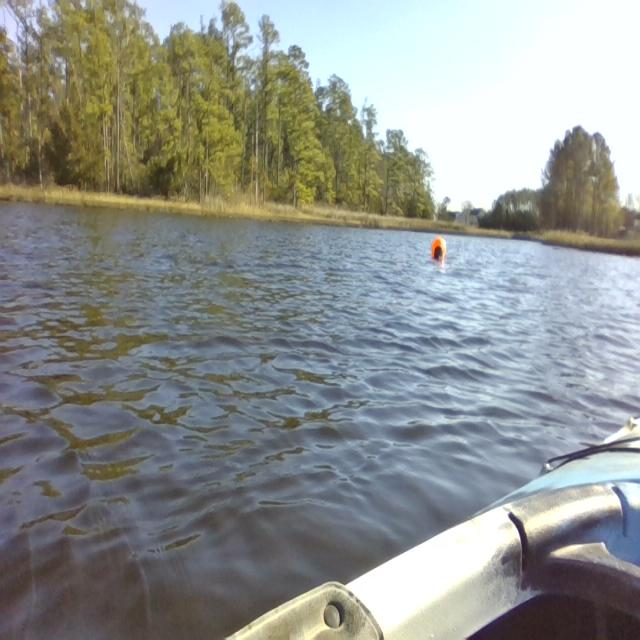Buoy: (428, 233, 452, 270)
